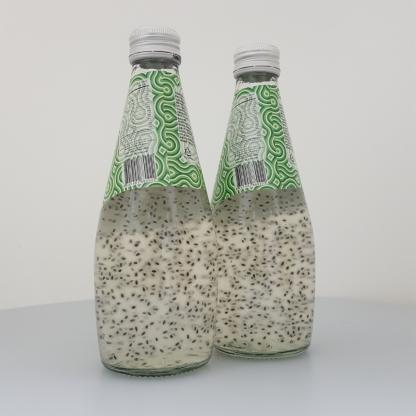------------------------: (94, 24, 217, 378), (204, 42, 316, 360)
